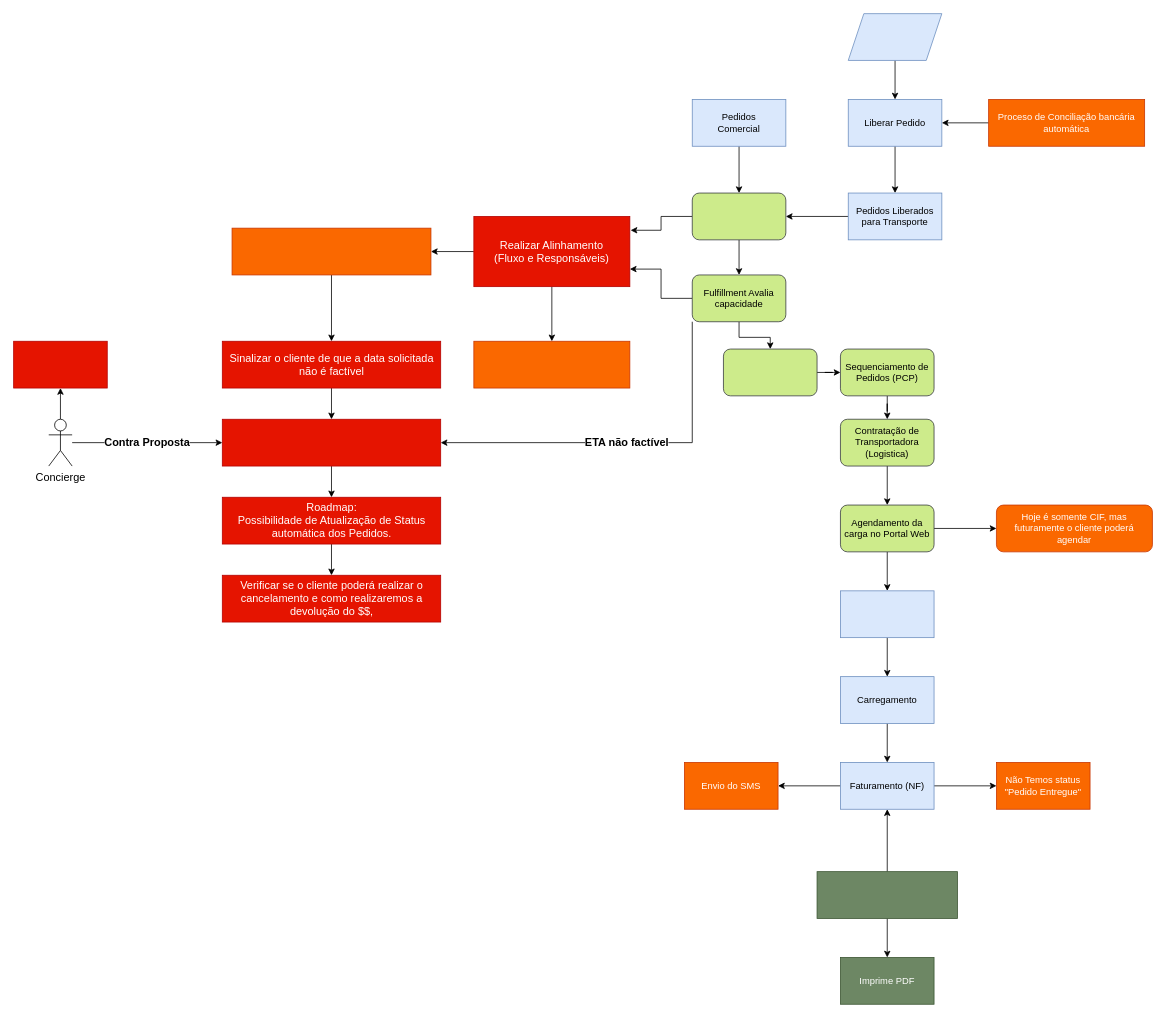
Some shapes in this 1166 by 1018 pixel diagram are drawn without their labels. Here are the shapes that lost their labels. From the top down, the centre of each, then its label:
At point 894,36: "Pagamento Boleto".
At point 738,216: "Gestão de Carteira".
At point 331,251: "Deve ser respeitada a data de entrega".
At point 60,364: "Comunicaçao Via Whatsapp".
At point 551,364: "Relatório de Vendas Online".
At point 770,372: "Altera pedidos para Programados".
At point 331,442: "Criar página de Backoffice para Controle/Sinalização de Pedidos Pendentes.".
At point 887,614: "Chegado do Veículo na Planta".
At point 886,894: "Portal Busca Lista de NF Disponíveis".
